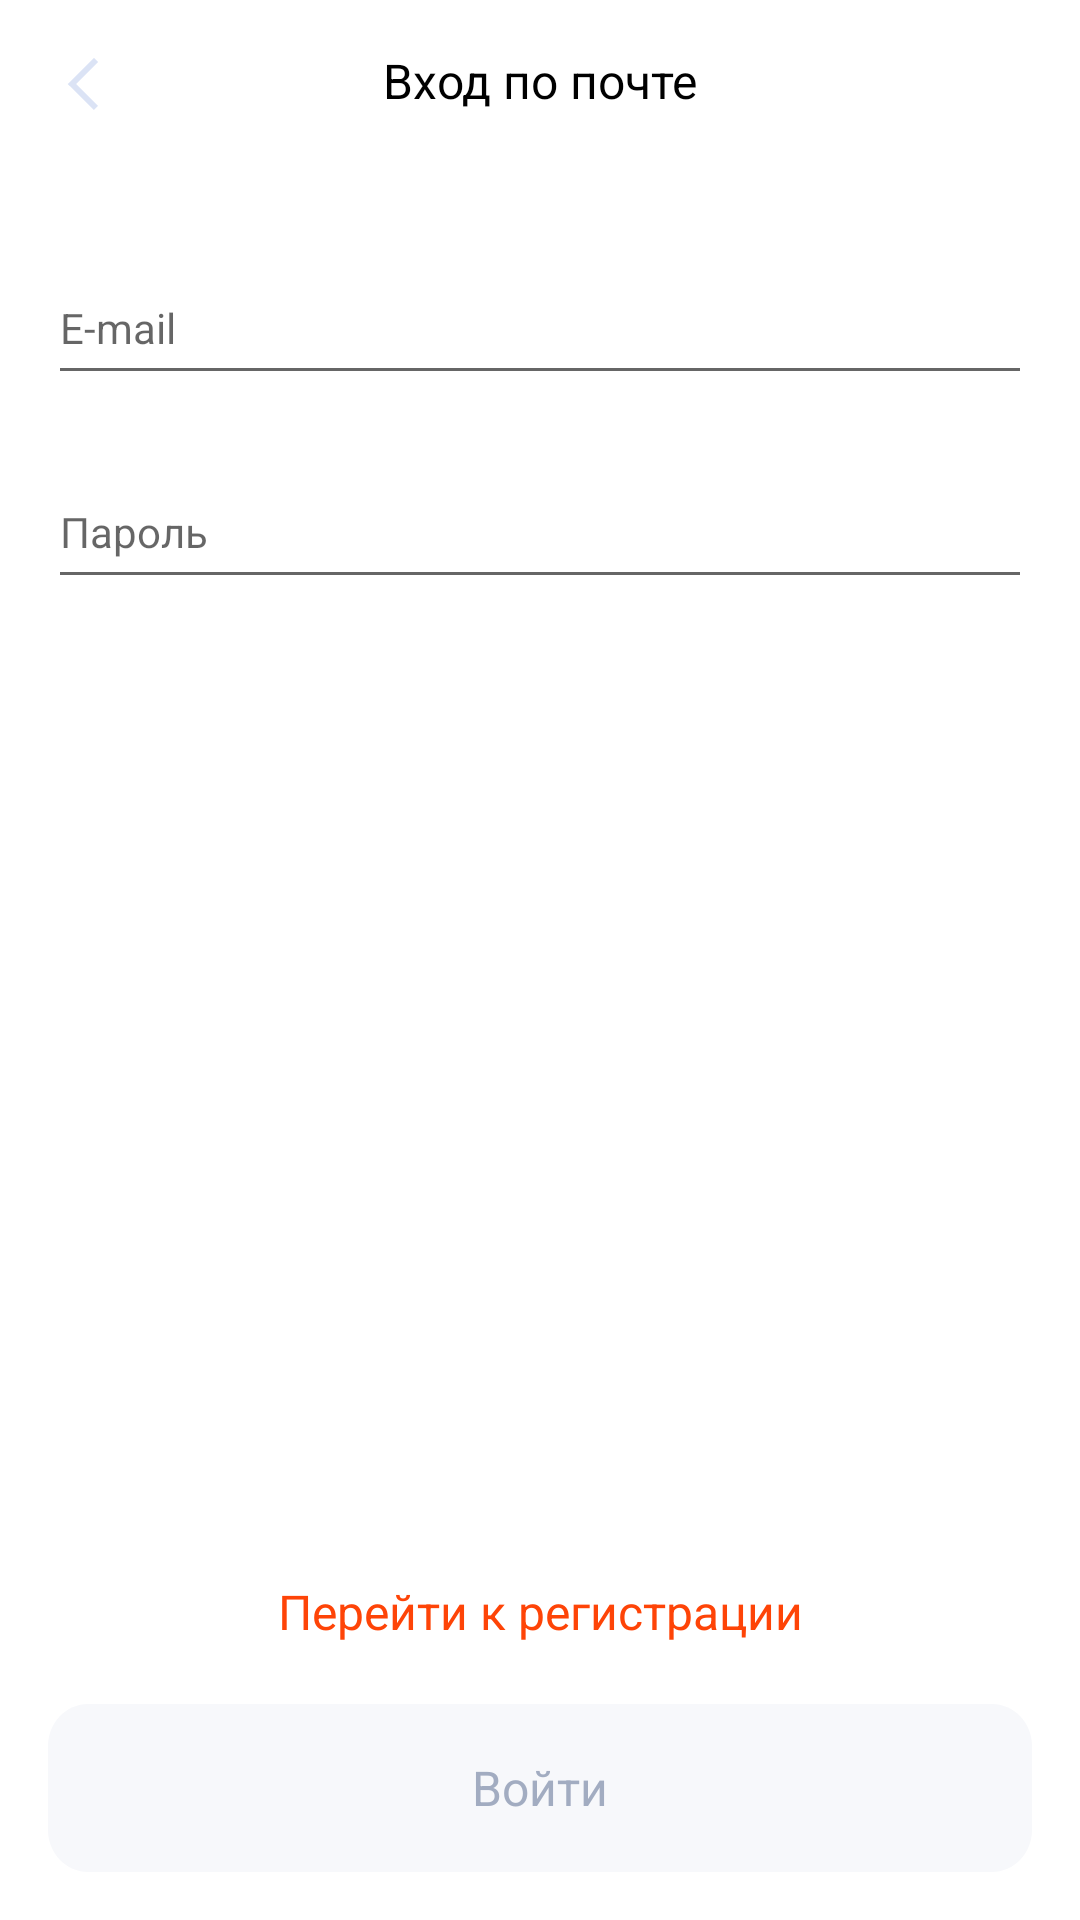

Where icons sit on this 1080w x 1920h app screen, as (x1, y1, x2, y2):
back arrow: (68, 59, 97, 109)
